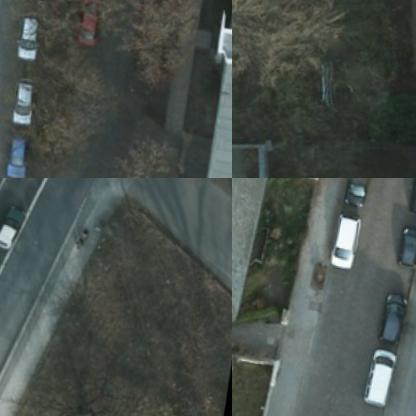car: (372, 286, 407, 343), (68, 0, 105, 50), (8, 10, 44, 58), (0, 126, 31, 177), (0, 200, 26, 253), (8, 77, 34, 126), (392, 222, 415, 266), (338, 178, 374, 206), (403, 178, 415, 210)
van: (362, 346, 400, 404), (326, 209, 358, 270)
